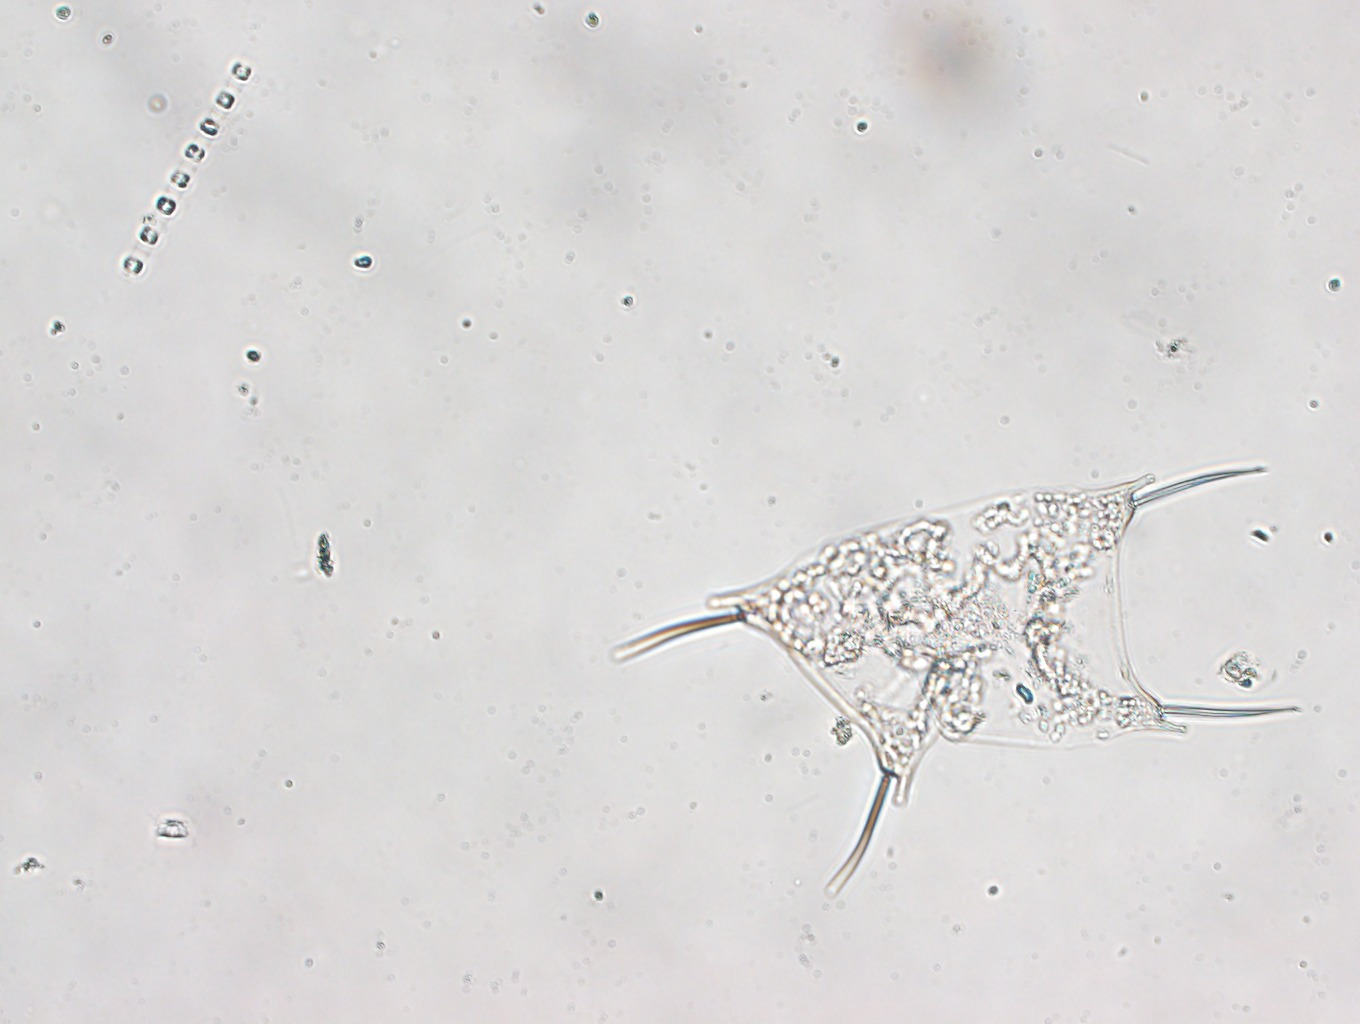biddulphia: (609, 466, 1300, 893)
skeletonema: (123, 60, 253, 276)
